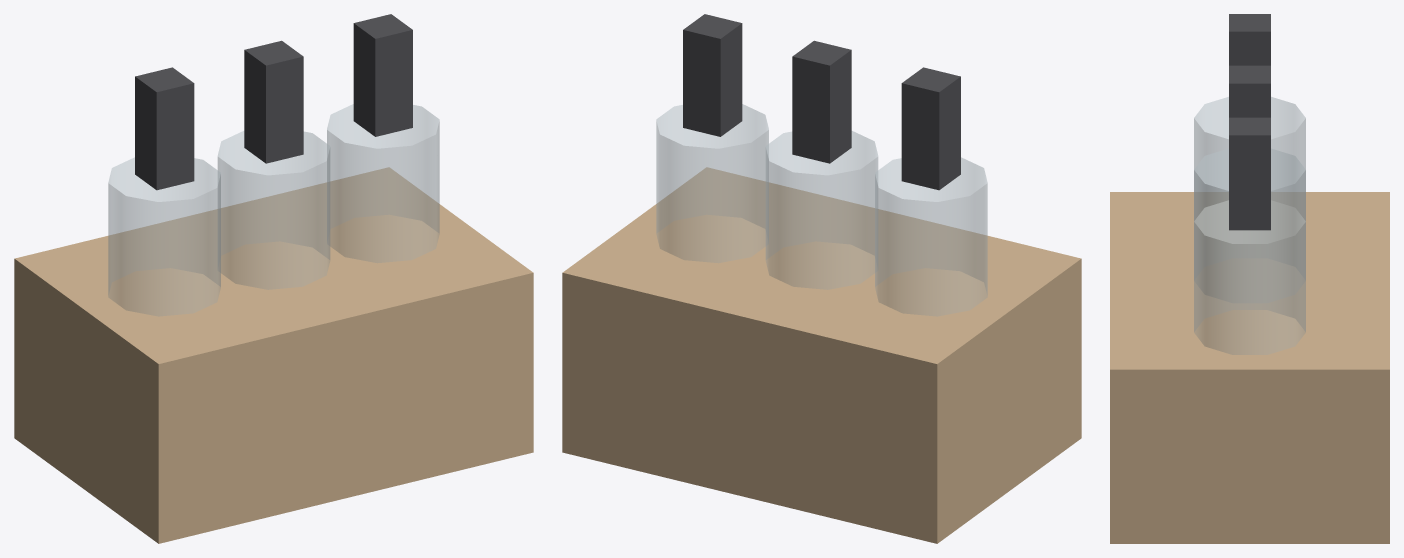
The model's file is CondimentCaddy.glb.
3 views of the same model, side by side, from view 1: azimuth 30°, elevation 25°; view 2: azimuth 150°, elevation 25°; view 3: azimuth 270°, elevation 25° (orthographic). The views are drawn at different scales.
Visible parts, largest first — view 1: CondimentCaddy; view 2: CondimentCaddy; view 3: CondimentCaddy.
Part boxes in pixels (x1,y1,x2,y2): CondimentCaddy: (14, 14, 533, 543); CondimentCaddy: (562, 14, 1081, 543); CondimentCaddy: (1110, 14, 1389, 543).
Size of the model in its own units: 0.12 by 0.12 by 0.08.
